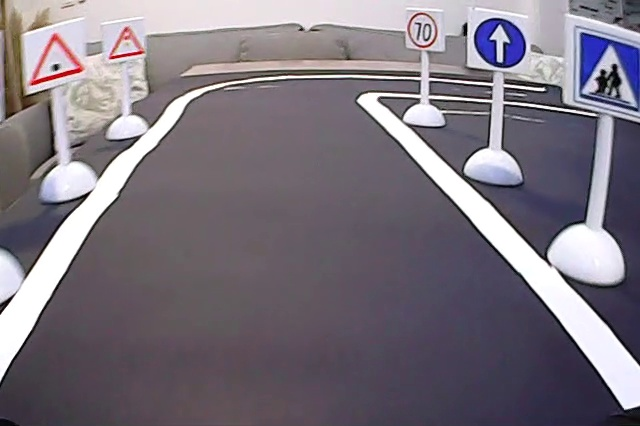green light: (25, 31, 87, 87)
red light: (107, 22, 146, 64)
school crossing: (572, 20, 640, 112)
speed limit 70: (405, 6, 447, 50)
